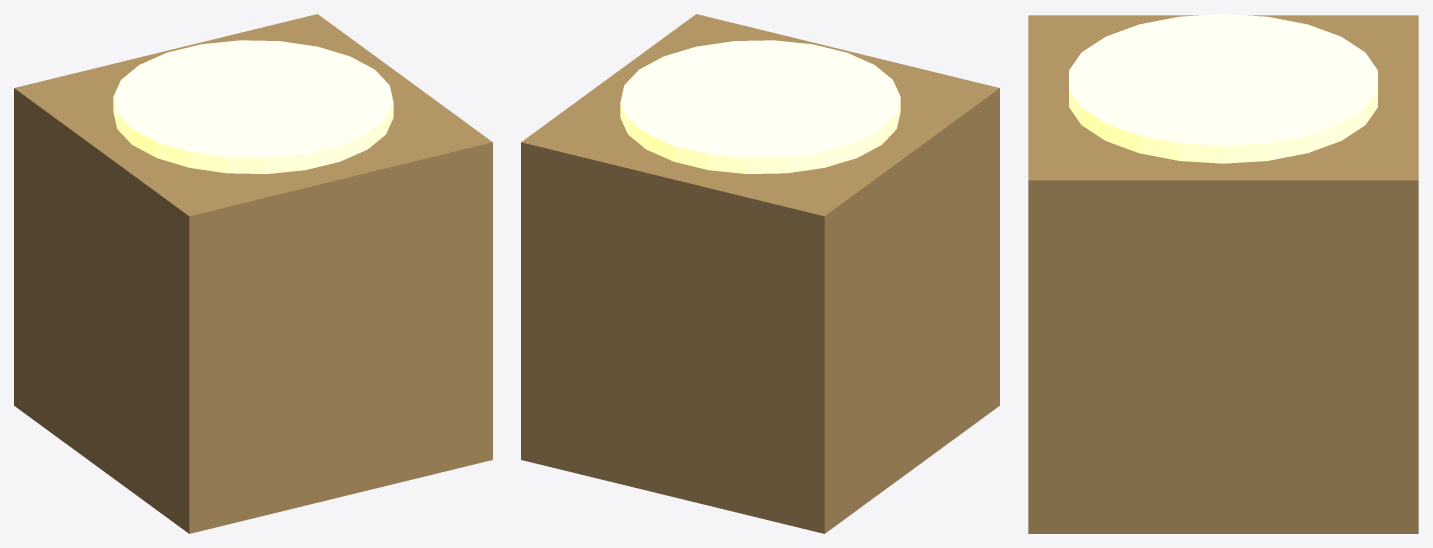
The model's file is TimedPulse_Full.glb.
The picture shows the model from 3 angles, left to right: view 1: azimuth 30°, elevation 25°; view 2: azimuth 150°, elevation 25°; view 3: azimuth 270°, elevation 25°; orthographic projection. The views are drawn at different scales.
Visible parts, largest first — view 1: TimedPulse_Full_body, glow_disc.005; view 2: TimedPulse_Full_body, glow_disc.005; view 3: TimedPulse_Full_body, glow_disc.005.
Boxes of the visible parts, x1,y1,x2,y2 form: TimedPulse_Full_body: (14,14,492,533); glow_disc.005: (113,40,393,173); TimedPulse_Full_body: (521,14,999,533); glow_disc.005: (620,40,900,173); TimedPulse_Full_body: (1028,15,1418,533); glow_disc.005: (1069,14,1377,163).
Bounding box in the file's own units: 1 × 1.05 × 1.
